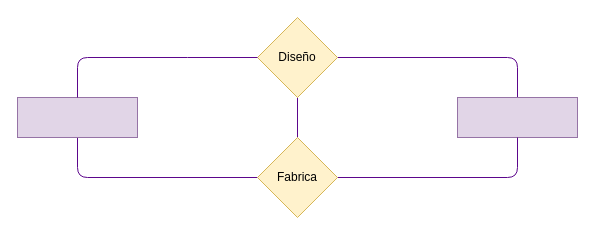
Image size: 595x235. Some labels were removed from this diagram. Here are the shapes that lost their labels. From the top down, the centre of each, then its label:
At [77,117]: "Empleado".
At [517,117]: "Producto".
